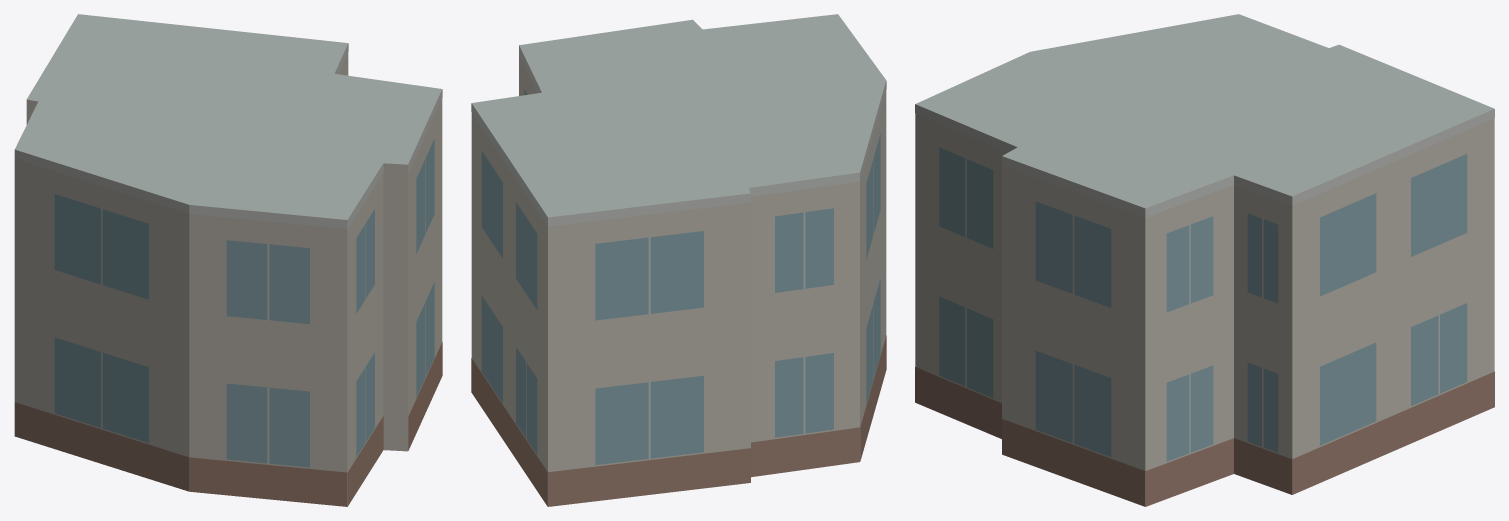
File: survey-upis-32583881.glb
3 views of the same model, side by side, from view 1: azimuth 30°, elevation 25°; view 2: azimuth 150°, elevation 25°; view 3: azimuth 270°, elevation 25° (orthographic). The views are drawn at different scales.
Visible parts, largest first — view 1: survey-upis-32583881.tmp; view 2: survey-upis-32583881.tmp; view 3: survey-upis-32583881.tmp.
Boxes of the visible parts, bbox=[...] form: survey-upis-32583881.tmp: bbox=[14, 14, 442, 506]; survey-upis-32583881.tmp: bbox=[471, 14, 886, 506]; survey-upis-32583881.tmp: bbox=[915, 14, 1494, 506].
Size of the model in its own units: 10.91 by 7.8 by 13.73.
